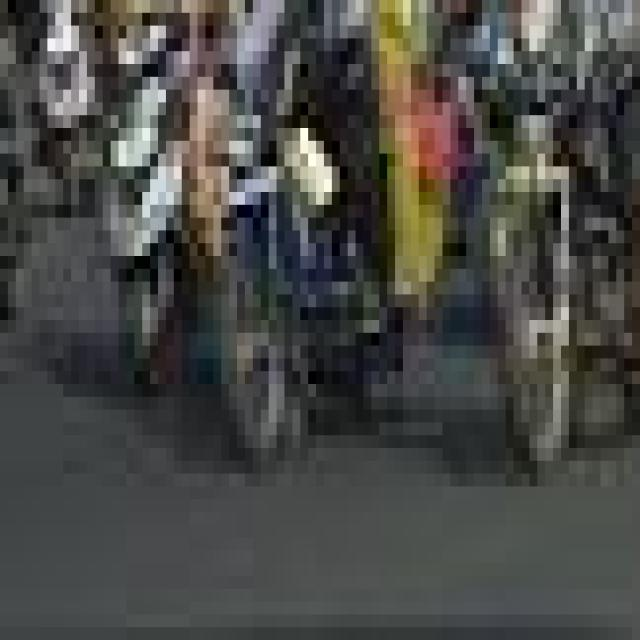bike: (190, 26, 403, 473), (474, 13, 640, 486), (95, 0, 221, 371)
